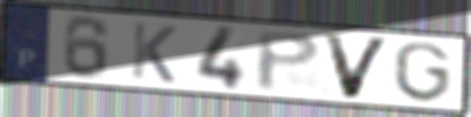4: (193, 23, 249, 92)
6: (61, 13, 111, 81)
G: (391, 40, 453, 105)
K: (129, 20, 180, 86)
P: (254, 29, 324, 94)
V: (319, 31, 395, 101)
